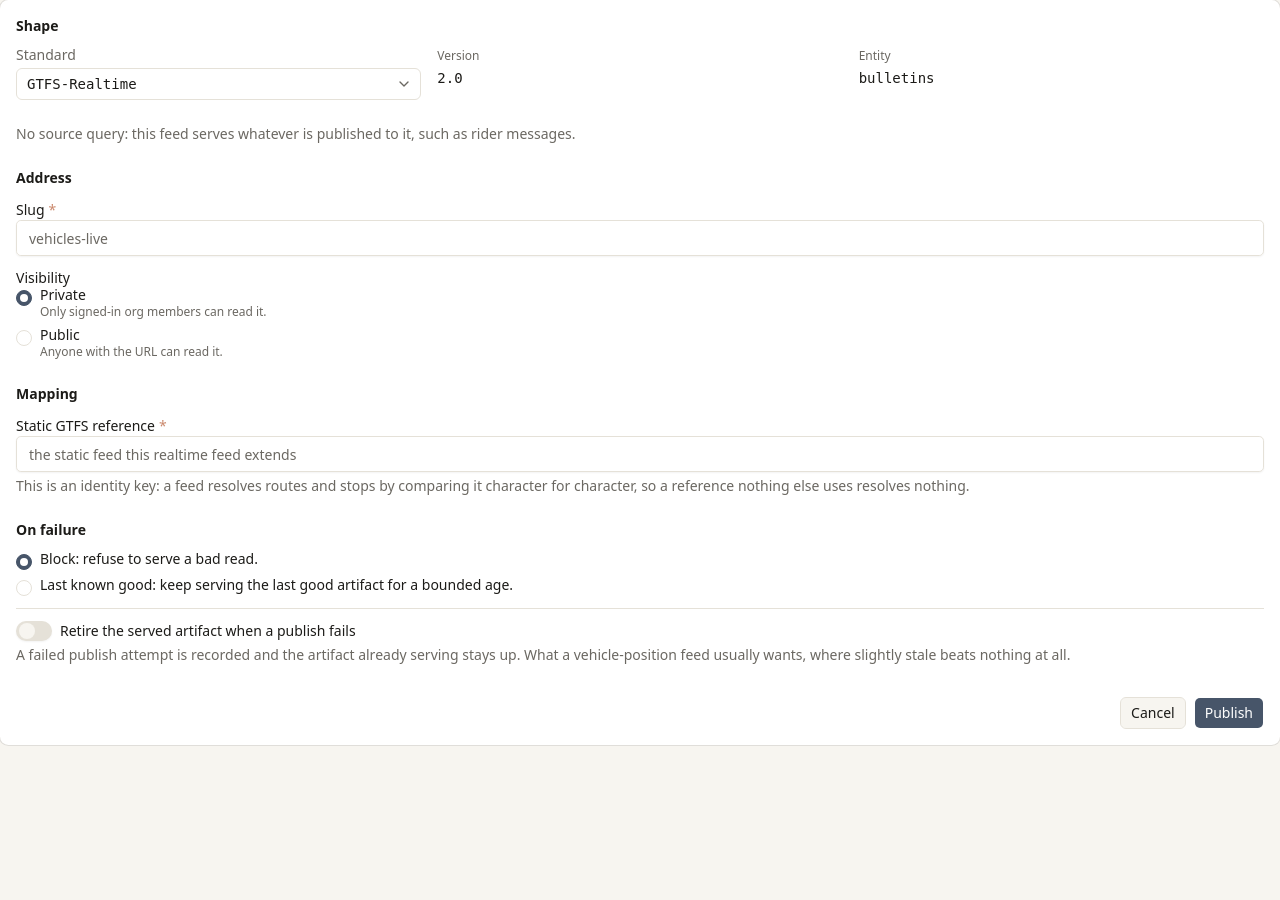
the static GTFS reference › leaves a new binding unpicked when the organization serves more than one
Type "third-feed" into the field labelled "Slug" at (640, 238), box [16, 220, 1264, 256]
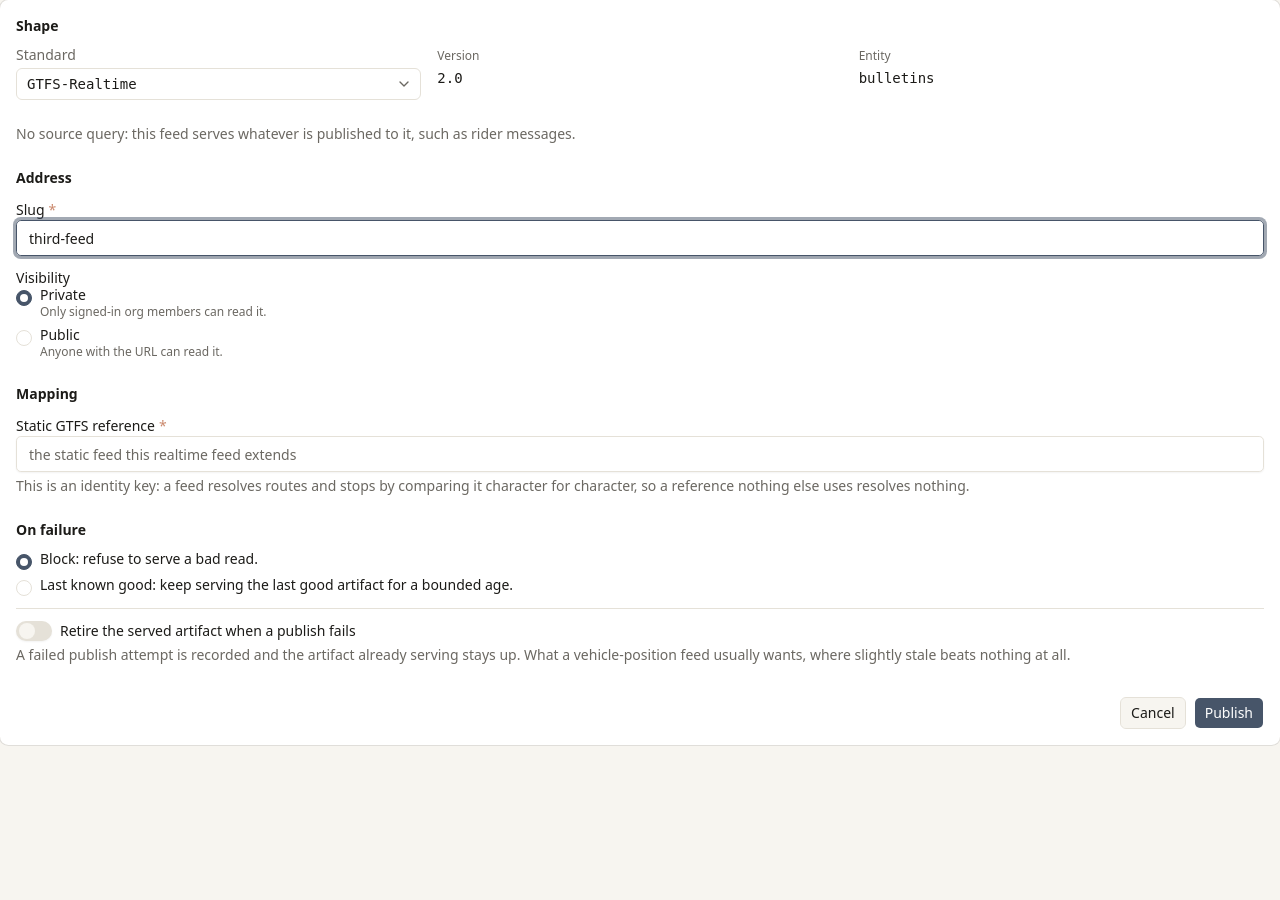
Click the button "Publish" at (1229, 713), box [1194, 697, 1264, 729]
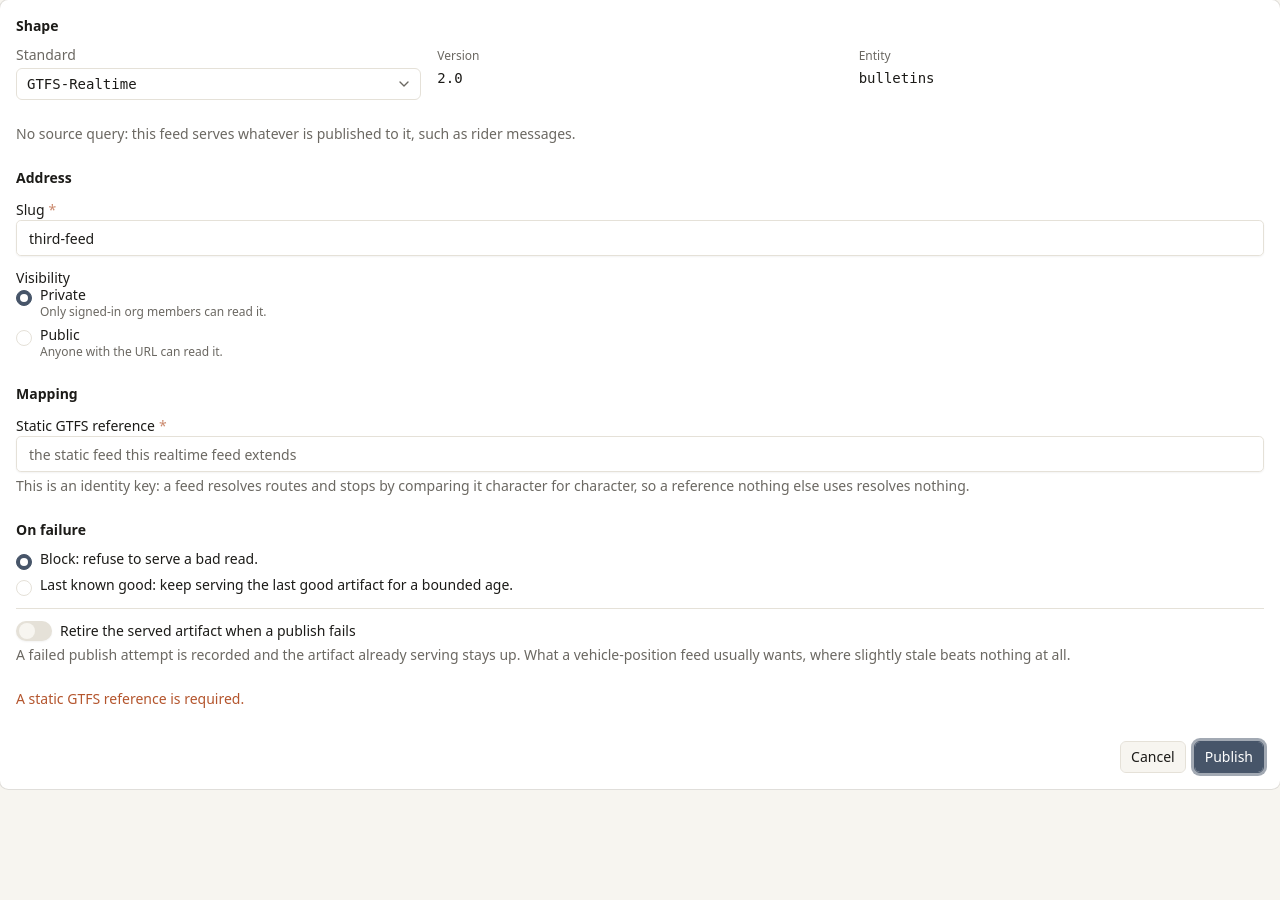
Check: the text "A static GTFS reference is required." is shown, box [16, 689, 244, 708]
